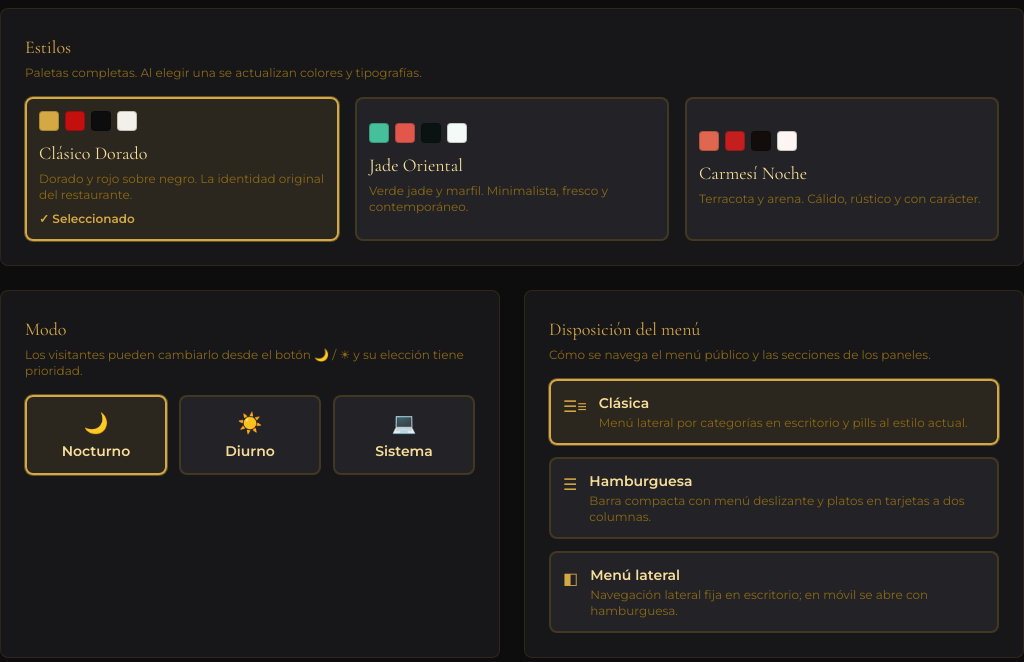
it: permite cambiar la disposición del menú y las esquinas
Step 1. Click the button "Hamburguesa" → coordinates (774, 498), box [549, 457, 999, 539]
(page scrolled)
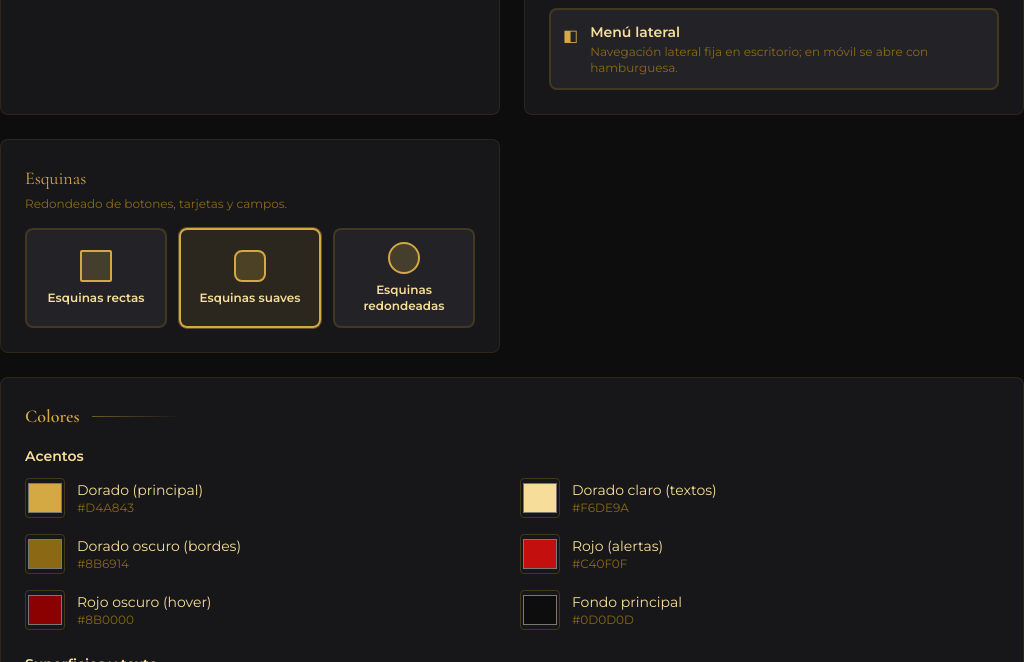
Step 2. Click the button "Esquinas redondeadas" → coordinates (404, 278), box [333, 228, 475, 328]
(page scrolled)
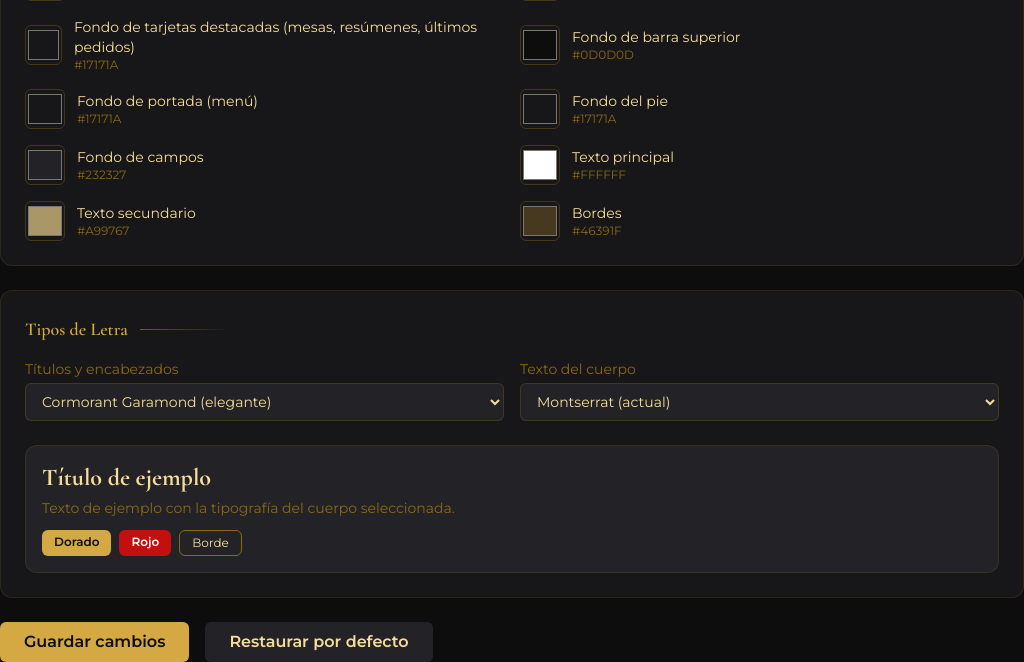
Step 3. Click the button "Guardar cambios" → coordinates (95, 642), box [0, 622, 189, 661]
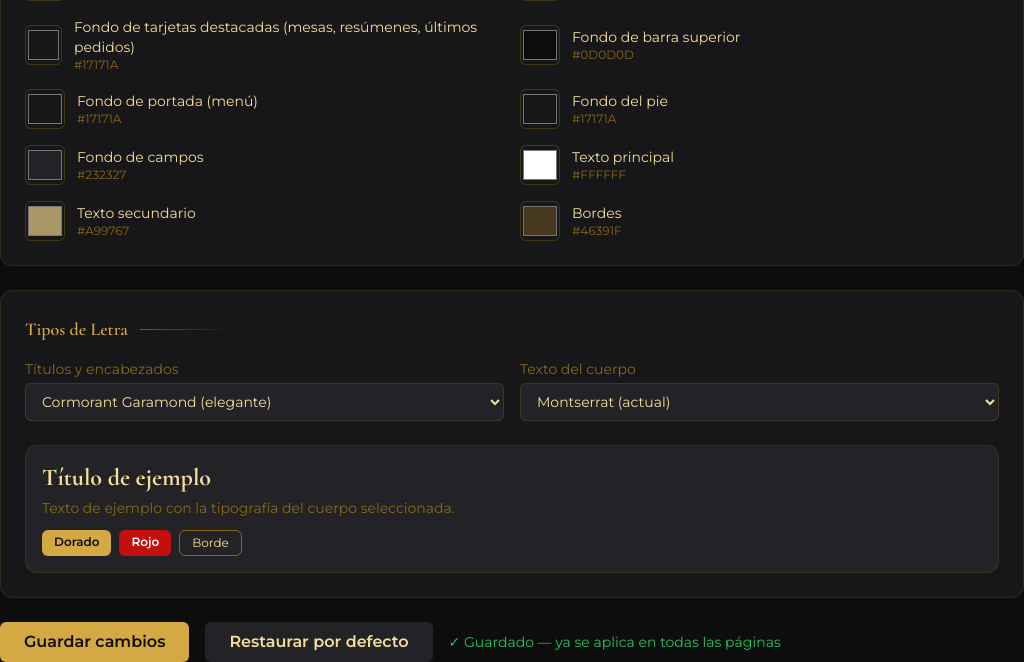
Expected: the text "✓ Guardado — ya se aplica en todas las páginas" is shown, [449, 632, 781, 652]
